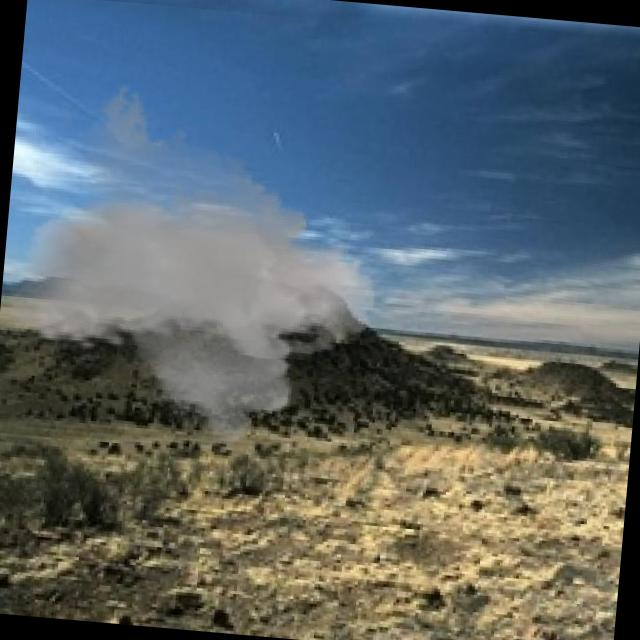Smoke: (0, 73, 393, 467)
